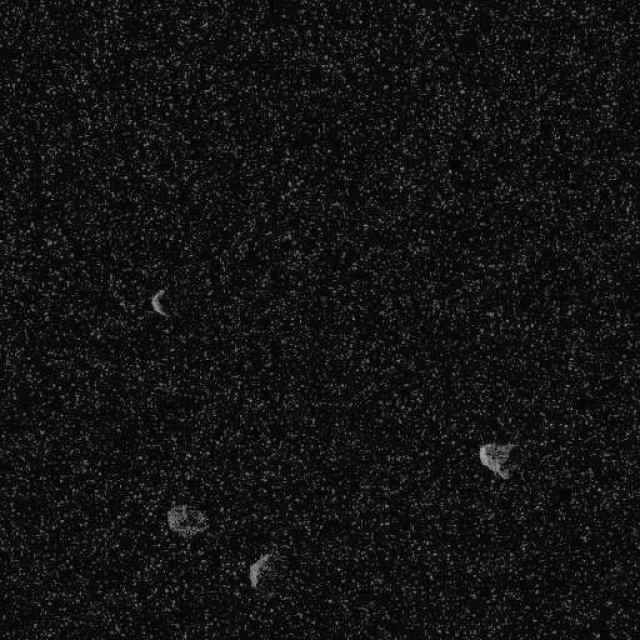D2: (165, 502, 209, 538), (478, 441, 518, 480), (248, 550, 274, 589), (149, 288, 169, 318)
